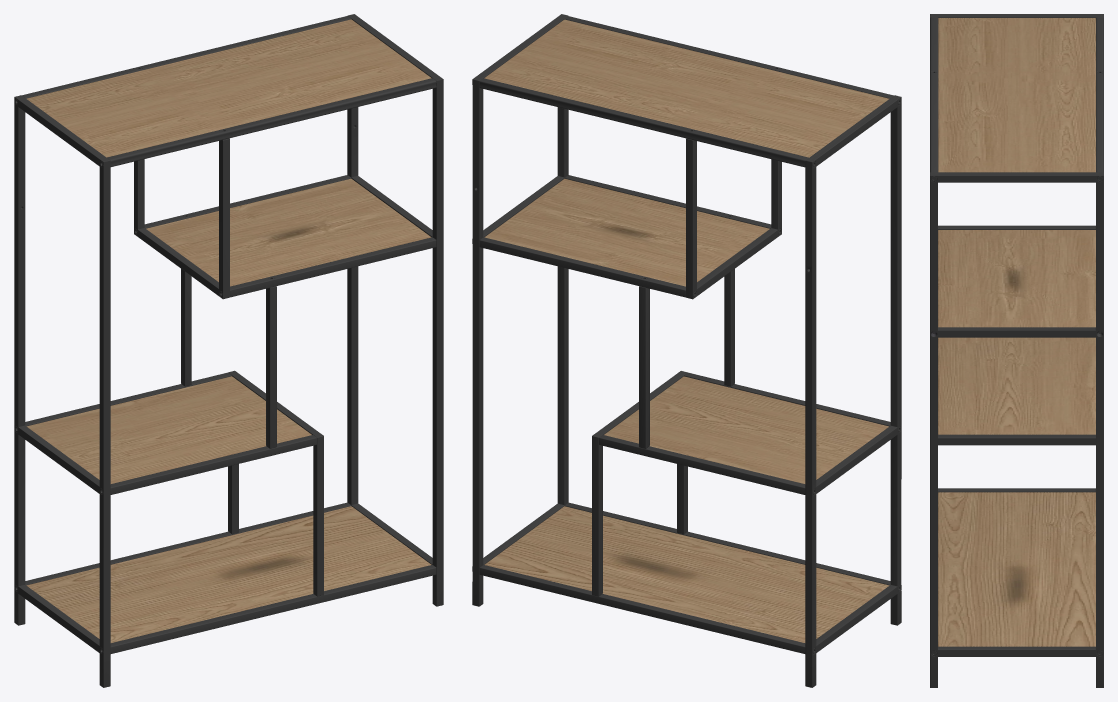
File: abo-B07QTS7BWK.glb
3 renders of one model, left to right at view 1: azimuth 30°, elevation 25°; view 2: azimuth 150°, elevation 25°; view 3: azimuth 270°, elevation 25°, orthographic. The views are drawn at different scales.
Bounding box in the file's own units: 0.77 × 1.14 × 0.35.
1 material, 1 textured.
